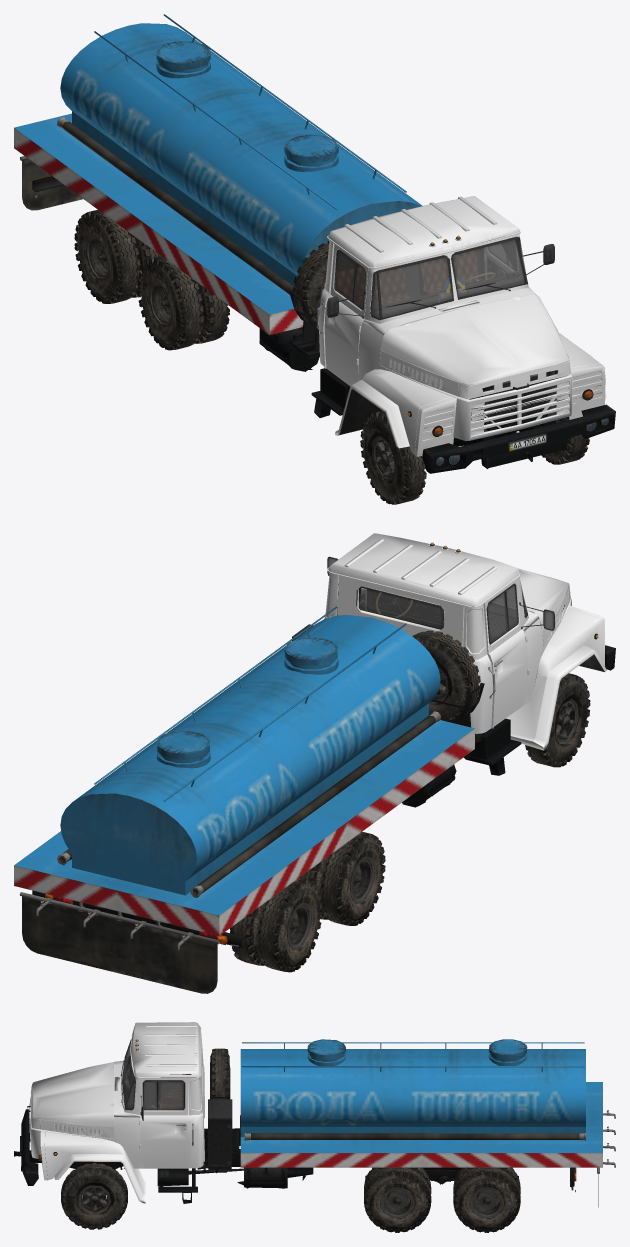
Rendered from water_tanker.glb.
3 views of the same model, one above another, from view 1: azimuth 30°, elevation 25°; view 2: azimuth 150°, elevation 25°; view 3: azimuth 270°, elevation 25° (orthographic). The views are drawn at different scales.
Visible parts, largest first — view 1: Object_162, Object_22, Object_46, Object_4, Object_117, Object_16, Object_48, Object_36, Object_14, Object_40, Object_123, Object_24 (+8 smaller); view 2: Object_162, Object_22, Object_36, Object_16, Object_4, Object_40, Object_123, Object_14, Object_117, Object_46, Object_50, Object_12 (+4 smaller); view 3: Object_162, Object_22, Object_46, Object_4, Object_26, Object_20, Object_38, Object_18, Object_127, Object_48, Object_123, Object_10 (+5 smaller).
Boxes of the visible parts, left/top/right/bottom form: Object_162: left=14, top=14, right=422, bottom=335; Object_22: left=318, top=196, right=606, bottom=456; Object_46: left=379, top=294, right=570, bottom=399; Object_4: left=32, top=176, right=615, bottom=473; Object_117: left=371, top=238, right=526, bottom=318; Object_16: left=137, top=256, right=229, bottom=350; Object_48: left=336, top=236, right=523, bottom=316; Object_36: left=74, top=209, right=160, bottom=303; Object_14: left=360, top=410, right=426, bottom=504; Object_40: left=324, top=244, right=368, bottom=386; Object_123: left=292, top=241, right=329, bottom=326; Object_24: left=469, top=370, right=566, bottom=430; Object_162: left=14, top=606, right=474, bottom=993; Object_22: left=324, top=533, right=606, bottom=750; Object_36: left=230, top=878, right=322, bottom=972; Object_16: left=299, top=831, right=385, bottom=925; Object_4: left=32, top=645, right=615, bottom=959; Object_40: left=486, top=579, right=543, bottom=726; Object_123: left=412, top=630, right=480, bottom=720; Object_14: left=525, top=673, right=590, bottom=767; Object_117: left=359, top=583, right=527, bottom=627; Object_46: left=518, top=568, right=570, bottom=647; Object_50: left=366, top=589, right=516, bottom=639; Object_12: left=350, top=856, right=374, bottom=903; Object_162: left=240, top=1039, right=615, bottom=1207; Object_22: left=29, top=1022, right=204, bottom=1203; Object_46: left=27, top=1062, right=113, bottom=1138; Object_4: left=14, top=1109, right=575, bottom=1203; Object_26: left=139, top=1078, right=187, bottom=1168; Object_20: left=364, top=1167, right=431, bottom=1232; Object_38: left=453, top=1167, right=520, bottom=1232; Object_18: left=61, top=1163, right=127, bottom=1229; Object_127: left=208, top=1099, right=232, bottom=1166; Object_48: left=142, top=1074, right=196, bottom=1108; Object_123: left=210, top=1048, right=230, bottom=1099; Object_10: left=380, top=1187, right=414, bottom=1218.
Bounding box in the file's own units: 0.309 × 0.2833 × 1.
Materials: 24 (24 with a texture image).
